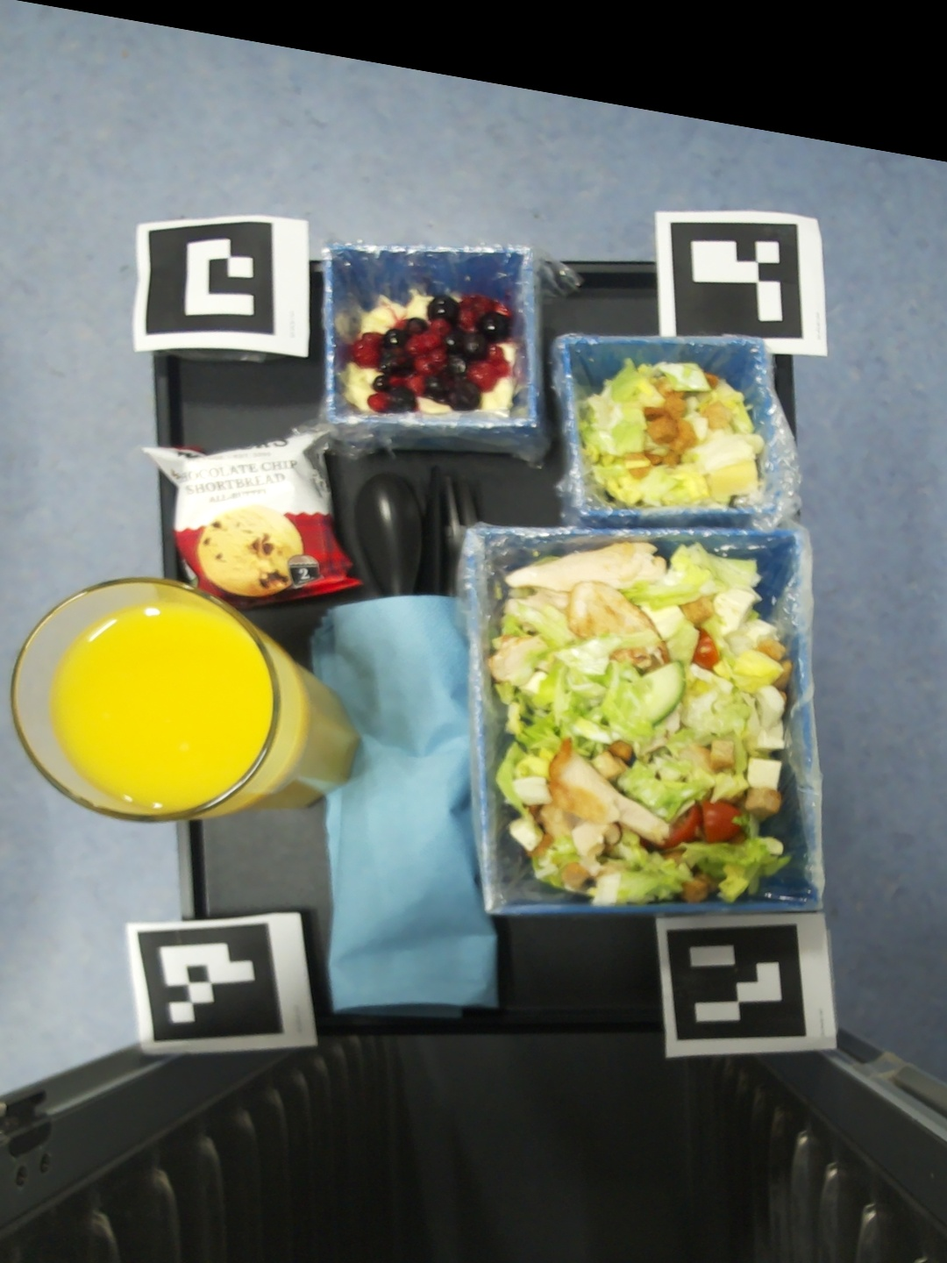cookie: (142, 433, 366, 611)
orange_juice_bottle: (11, 577, 361, 822)
salad_main: (489, 540, 795, 903)
side_salad: (578, 356, 768, 508)
vanilla_pudding_with_fruits: (338, 289, 517, 415)
